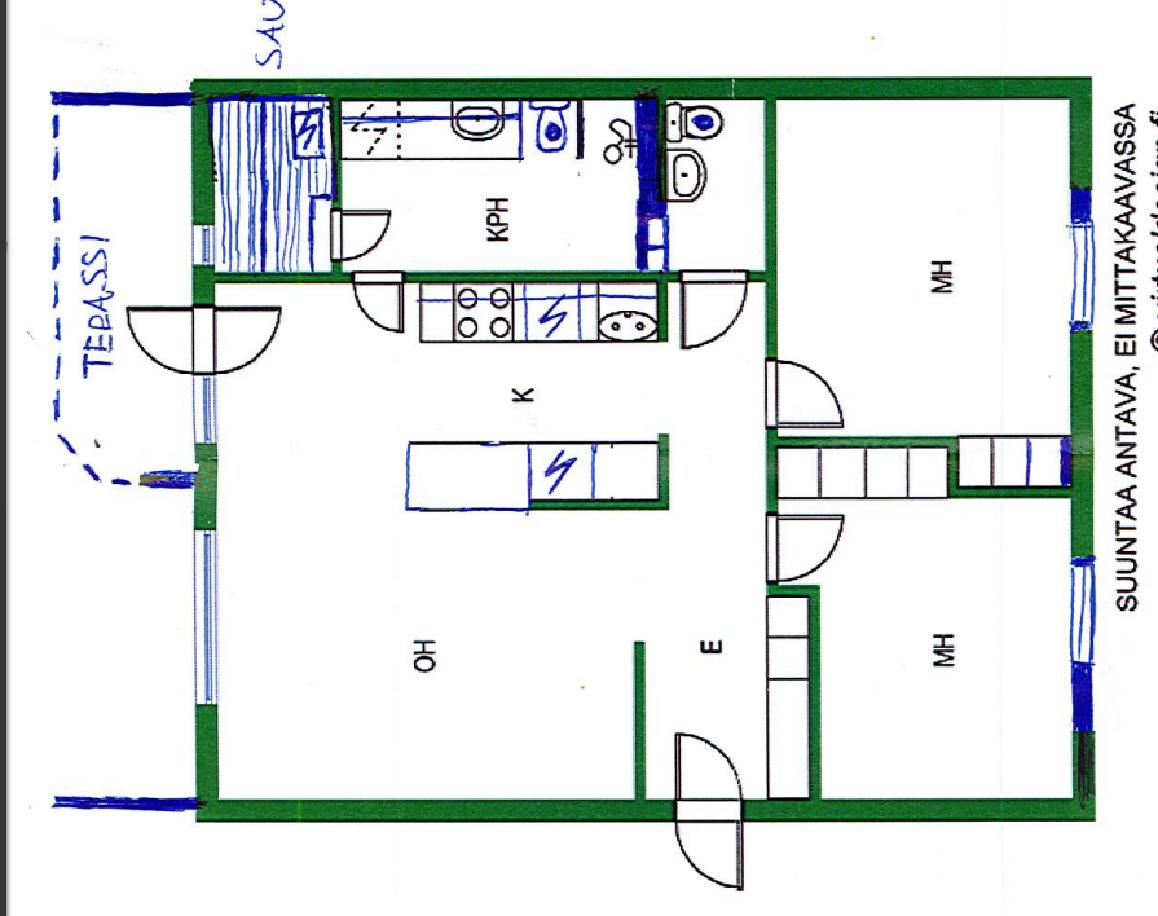door: (665, 721, 751, 897), (119, 300, 294, 383), (761, 354, 843, 433), (766, 514, 849, 588), (679, 265, 743, 357), (347, 265, 411, 338), (329, 209, 396, 263)
window: (1067, 559, 1101, 733), (1065, 189, 1098, 335), (195, 530, 222, 703), (196, 377, 221, 450), (188, 218, 210, 270)
zone: (221, 283, 766, 797), (776, 449, 1069, 796), (776, 102, 1067, 434), (340, 105, 764, 271), (50, 104, 199, 480), (211, 94, 335, 274)
